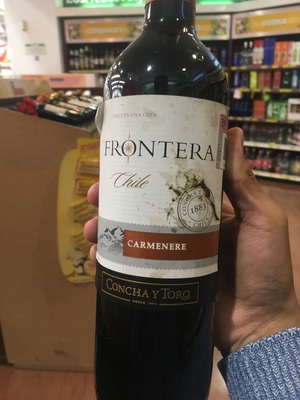frontera carmenere: (99, 14, 243, 400)
